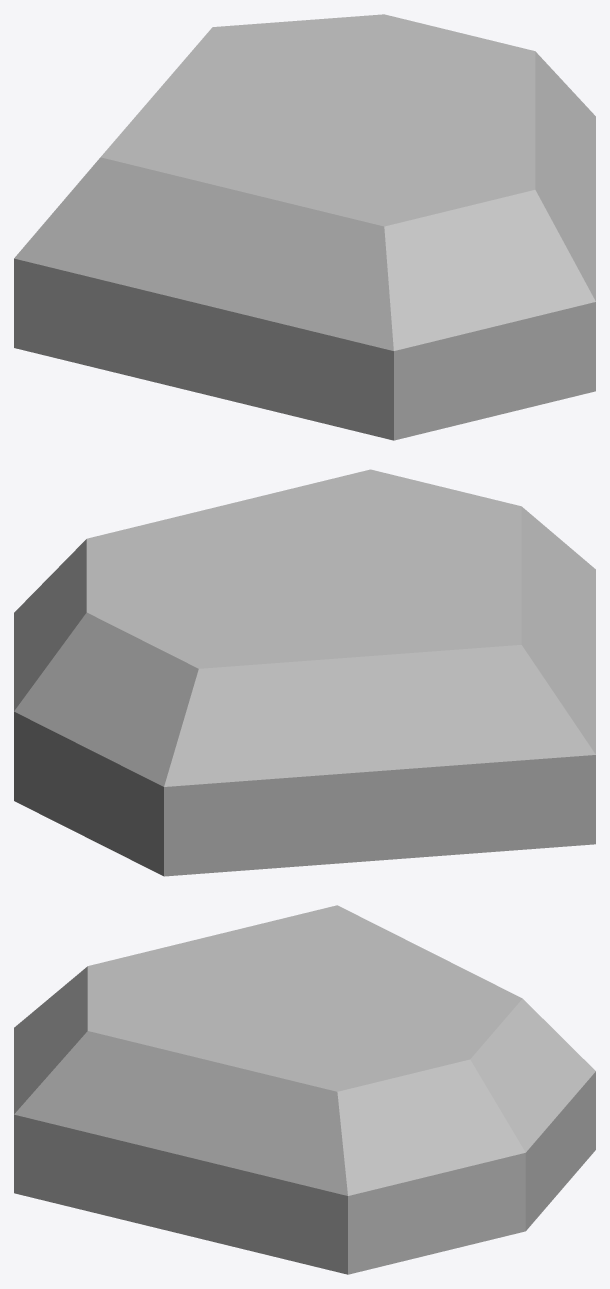
The model's file is rock-type4-04-grey.glb.
3 views of the same model, one above another, from view 1: azimuth 30°, elevation 25°; view 2: azimuth 150°, elevation 25°; view 3: azimuth 270°, elevation 25° (orthographic). The views are drawn at different scales.
Visible parts, largest first — view 1: Rock_Type4_04_mesh; view 2: Rock_Type4_04_mesh; view 3: Rock_Type4_04_mesh.
Part boxes in pixels (bbox=[...]): Rock_Type4_04_mesh: bbox=[14, 14, 595, 440]; Rock_Type4_04_mesh: bbox=[14, 469, 595, 876]; Rock_Type4_04_mesh: bbox=[14, 905, 595, 1274].
Size of the model in its own units: 1.18 by 0.3414 by 1.17.
1 material, 1 textured.
